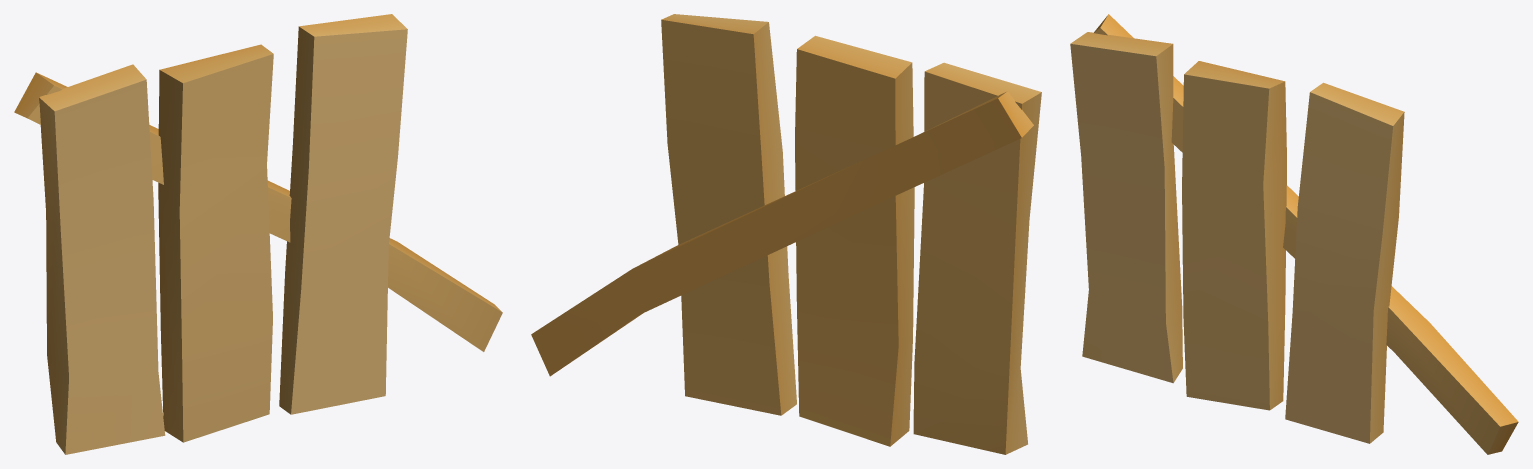
File: PagarKayu8.fbx
3 views of the same model, side by side, from view 1: azimuth 30°, elevation 25°; view 2: azimuth 150°, elevation 25°; view 3: azimuth 330°, elevation 25° (orthographic). The views are drawn at different scales.
Parts seen in each view (by area): view 1: Fence_03; view 2: Fence_03; view 3: Fence_03.
Part boxes in pixels (x1,y1,x2,y2): Fence_03: (14,14,502,454); Fence_03: (531,14,1041,454); Fence_03: (1070,14,1518,454).
Size of the model in its own units: 101 by 76.49 by 12.02.
